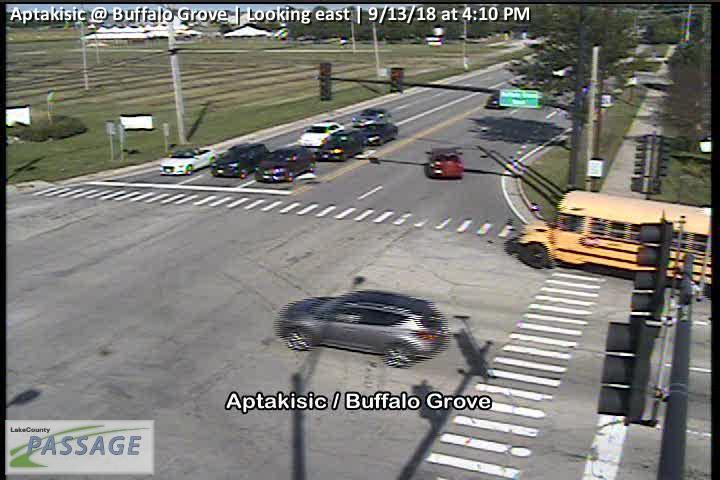Sedan: (274, 288, 449, 367), (253, 144, 317, 182), (208, 141, 270, 179), (318, 127, 369, 161), (159, 146, 217, 175), (424, 147, 465, 179), (298, 121, 345, 147), (354, 119, 398, 146), (351, 106, 392, 126)
Truck: (507, 185, 712, 286)
